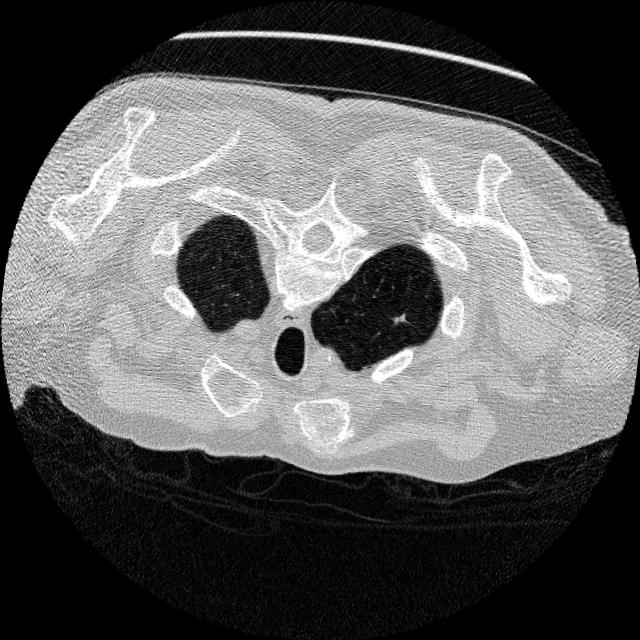nodule: (386, 305, 414, 333)
